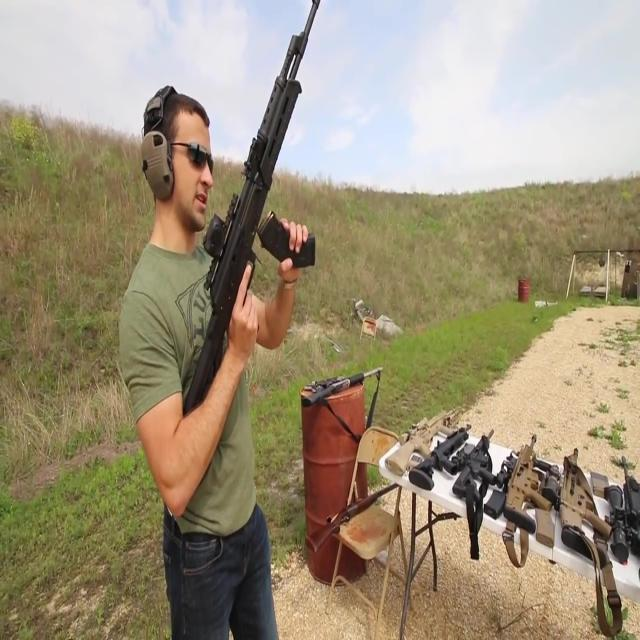Weapon: (170, 0, 310, 492), (383, 359, 640, 572), (288, 460, 404, 553), (293, 339, 387, 409)
